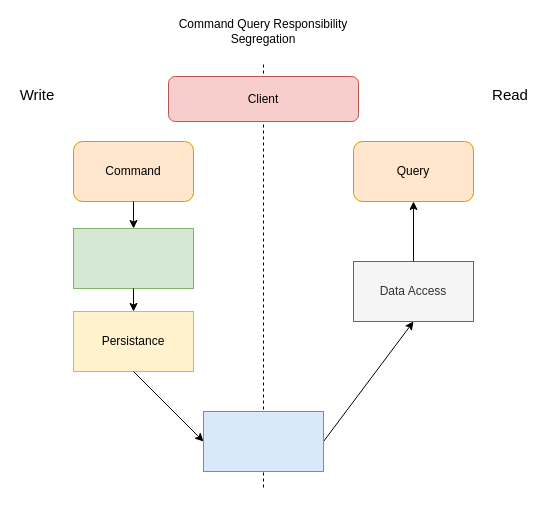
The diagram is 547 pixels wide and 506 high, and some of its shapes have lost their labels. Here are the shapes that lost their labels. From the top down, the centre of each, then its label:
At [133,258]: "Domain".
At [263,441]: "Database".
